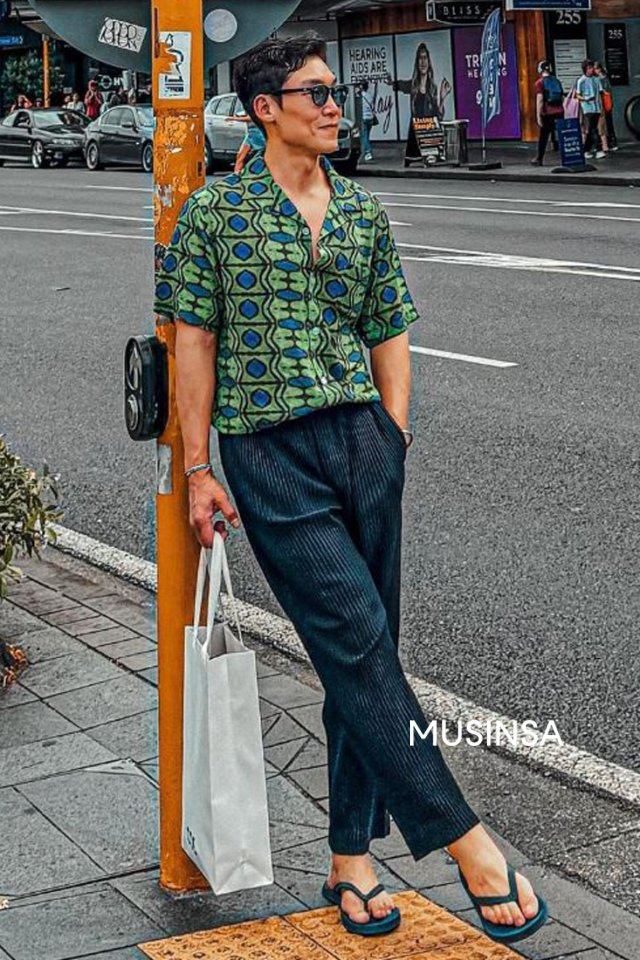Accessories: (179, 463, 217, 479)
Bag: (175, 524, 288, 907)
Glasses: (254, 82, 351, 104)
Pants: (211, 407, 485, 857)
Sandal: (316, 867, 557, 951)
Shirt: (152, 148, 420, 422)
